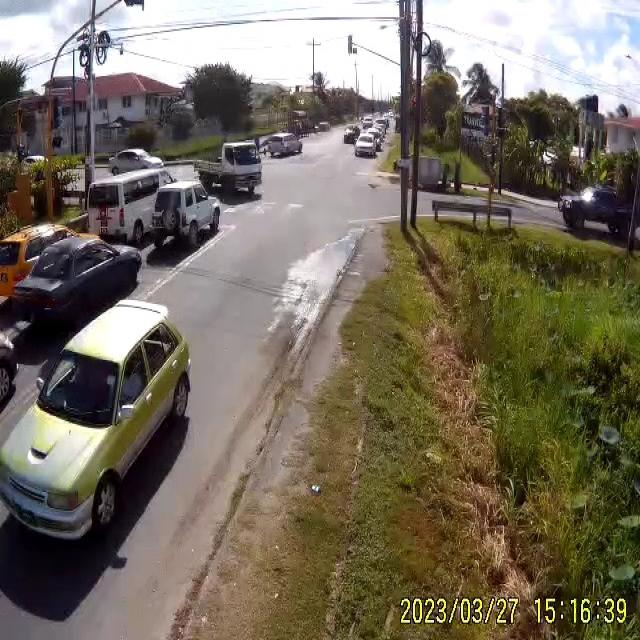car: (2, 302, 195, 544), (7, 235, 142, 335), (0, 222, 83, 304), (146, 179, 224, 254), (561, 188, 625, 235), (260, 134, 303, 159), (111, 150, 159, 172), (356, 134, 377, 156), (372, 123, 386, 137)
truck: (200, 142, 262, 198)
